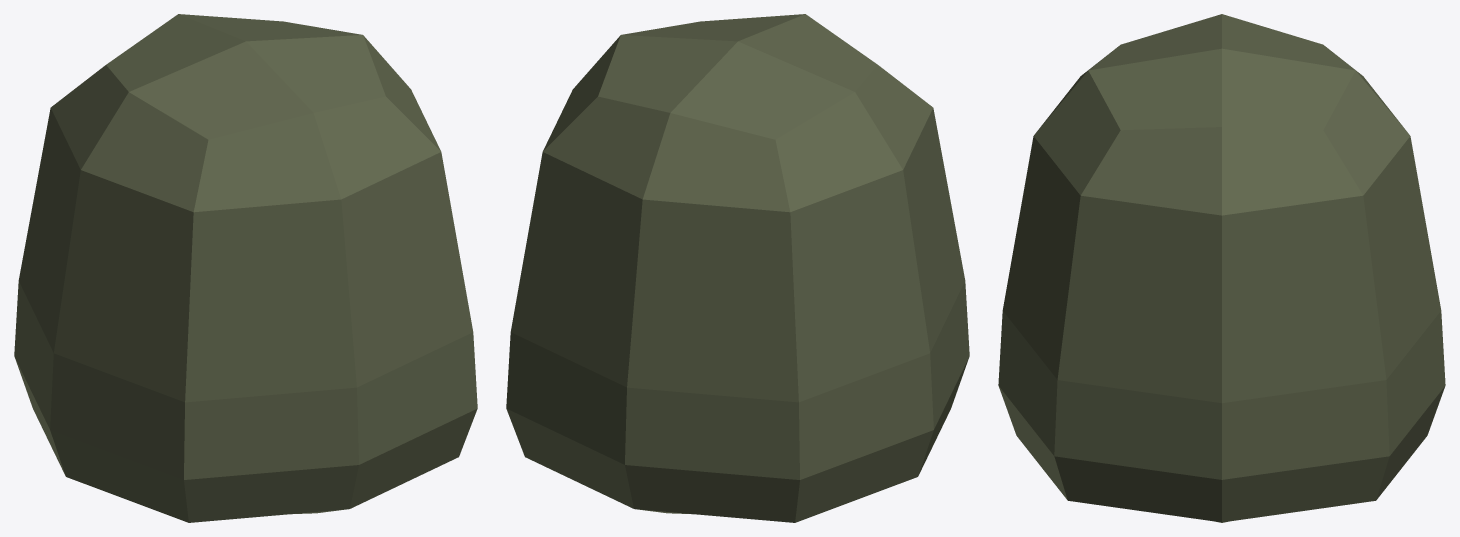
File: Lettuce_Crop.glb
The picture shows the model from 3 angles, left to right: view 1: azimuth 30°, elevation 25°; view 2: azimuth 150°, elevation 25°; view 3: azimuth 270°, elevation 25°; orthographic projection.
Visible parts, largest first — view 1: Lettuce_Crop_Cube.015; view 2: Lettuce_Crop_Cube.015; view 3: Lettuce_Crop_Cube.015.
Part boxes in pixels (box(x1,y1,x2,y2)): Lettuce_Crop_Cube.015: box(14, 14, 477, 522); Lettuce_Crop_Cube.015: box(506, 14, 969, 522); Lettuce_Crop_Cube.015: box(998, 14, 1445, 522).
Bounding box in the file's own units: 0.4043 × 0.4238 × 0.4043.
